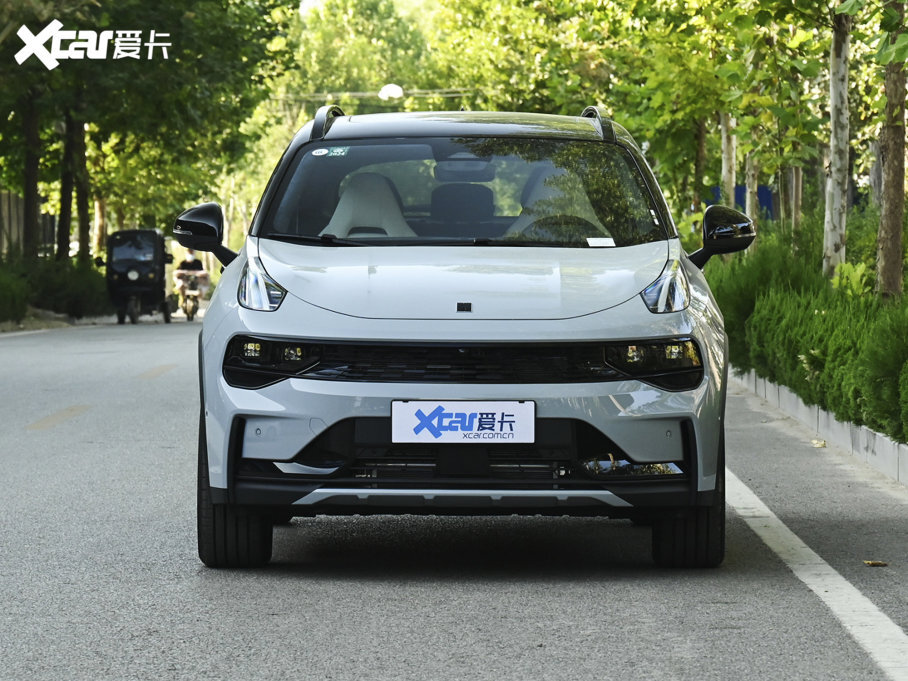LINK&CO: (456, 302, 471, 311)
